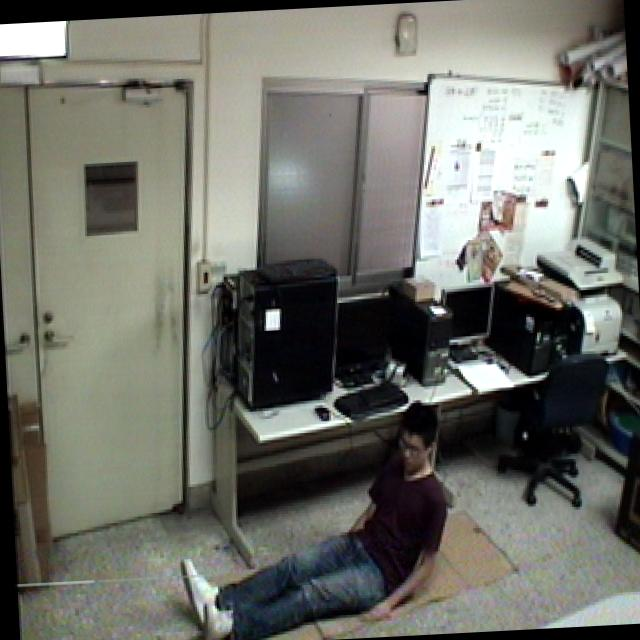sit: (163, 387, 466, 640)
